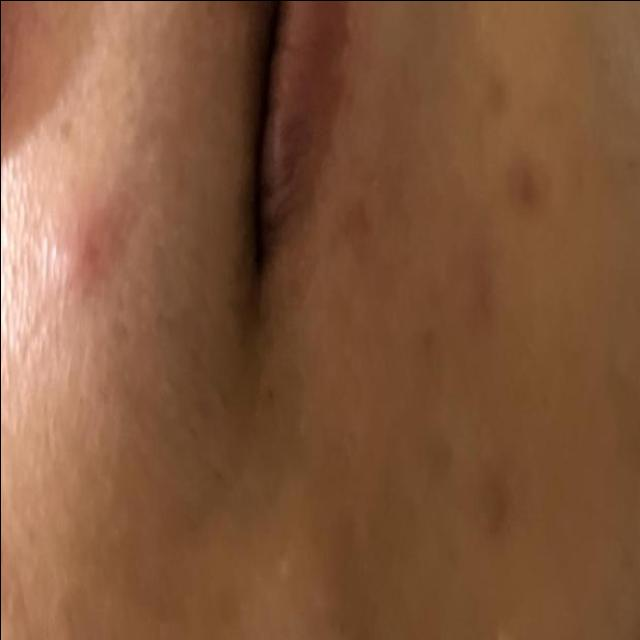papule: (51, 181, 145, 338)
